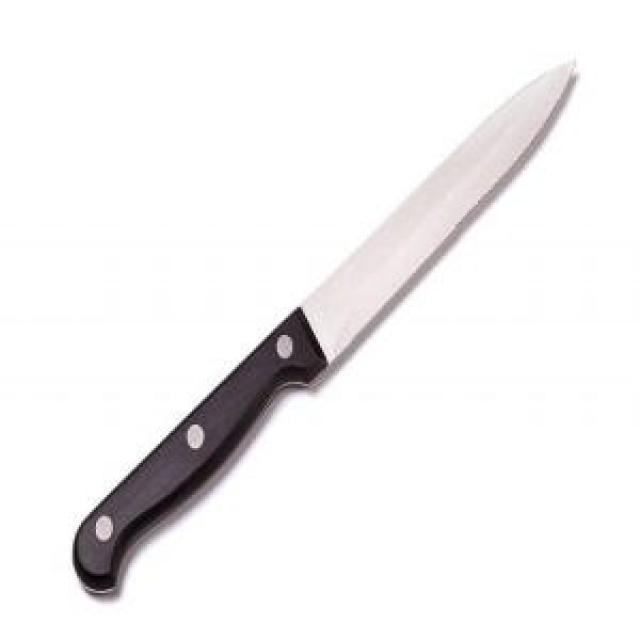knife: (70, 55, 580, 600)
